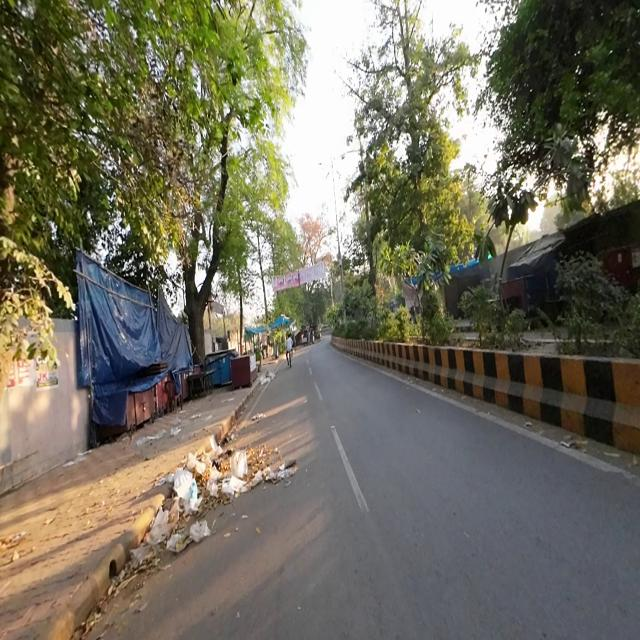Garbage: (157, 468, 209, 549), (199, 446, 250, 501), (254, 447, 292, 490), (130, 539, 159, 572), (135, 432, 164, 445), (258, 374, 274, 386), (172, 426, 180, 436)
